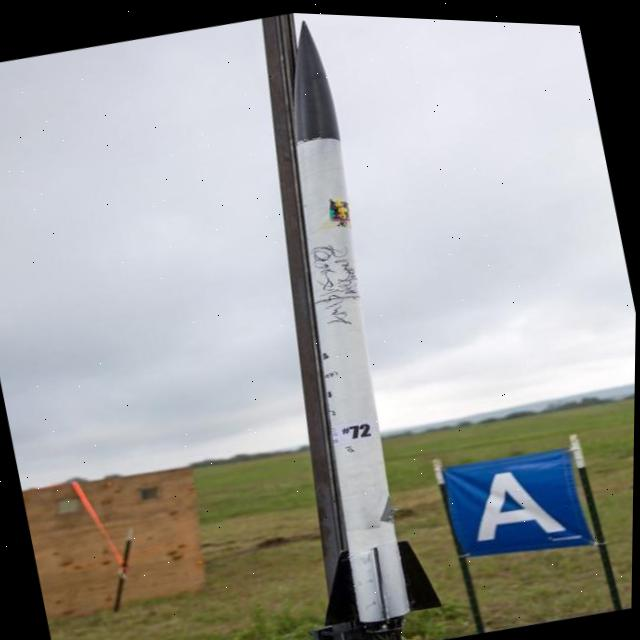missile: (223, 8, 459, 633)
